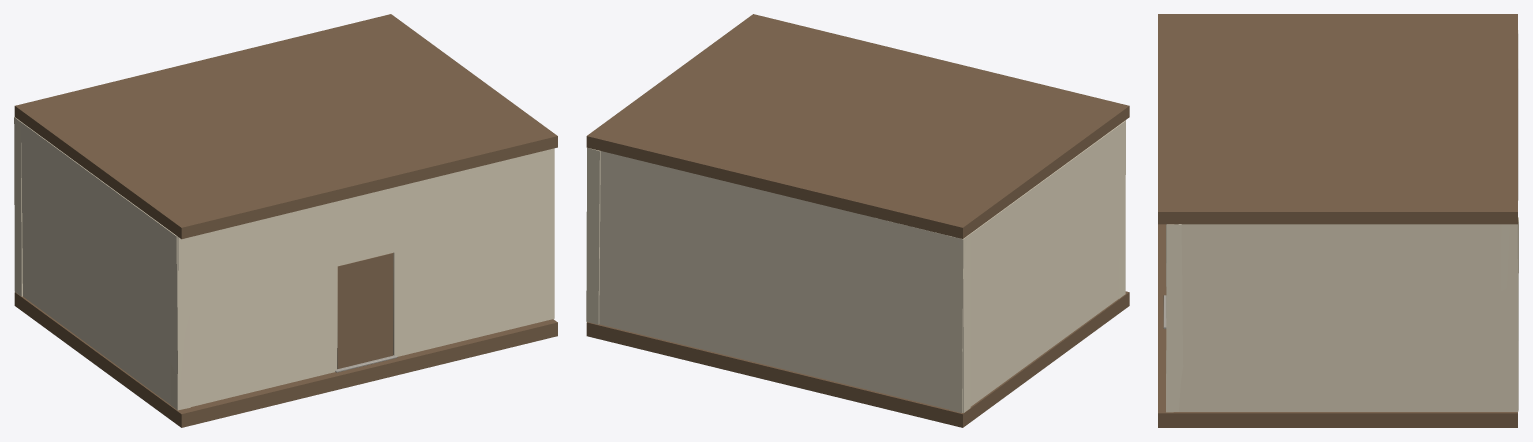
Rendered from int_workshop.glb.
The picture shows the model from 3 angles, left to right: view 1: azimuth 30°, elevation 25°; view 2: azimuth 150°, elevation 25°; view 3: azimuth 270°, elevation 25°; orthographic projection. The views are drawn at different scales.
Parts seen in each view (by area): view 1: int_workshop; view 2: int_workshop; view 3: int_workshop.
Part boxes in pixels (box(x1,y1,x2,y2)): int_workshop: box(14, 14, 557, 427); int_workshop: box(586, 14, 1129, 427); int_workshop: box(1158, 14, 1518, 427).
Size of what is drawn, in the model's own units: 8.64 by 4.37 by 6.62.
